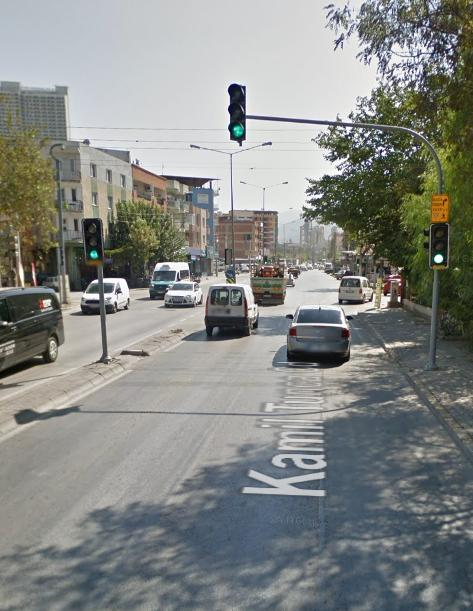greenlight: (229, 84, 247, 142), (82, 217, 104, 260), (431, 225, 449, 265)
